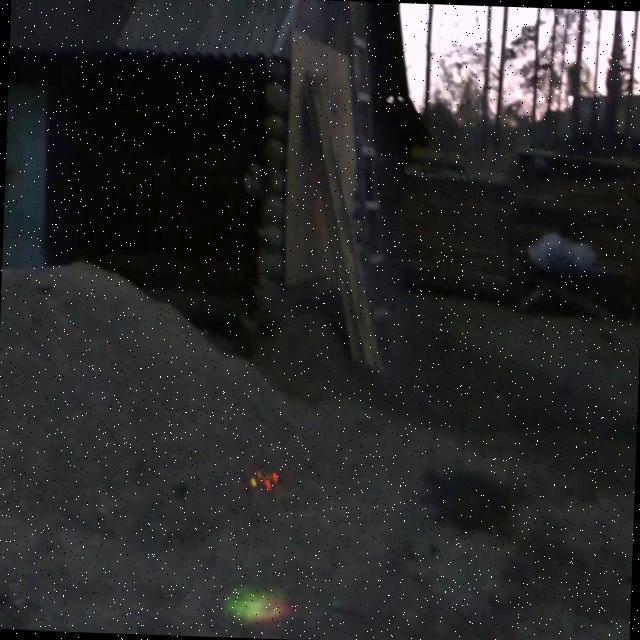Drons: (232, 453, 296, 502)
